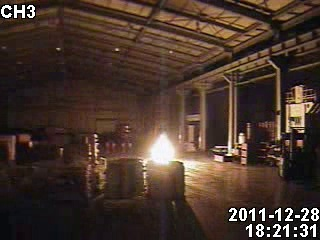fire: (147, 131, 175, 164)
